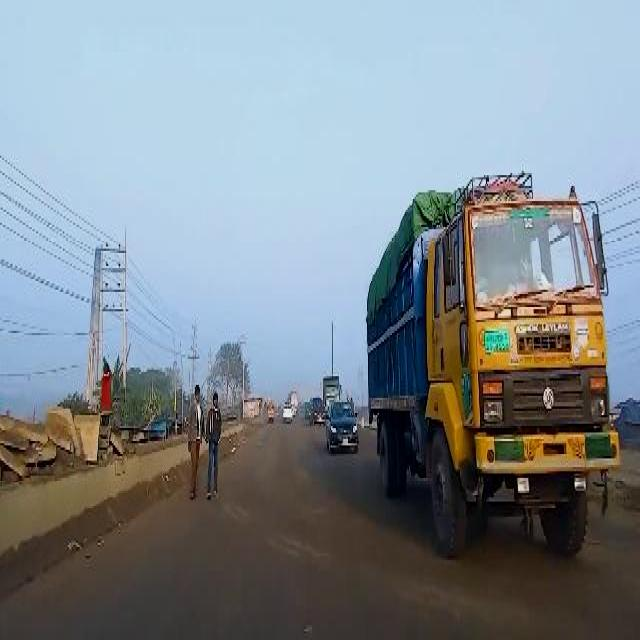TRUCK: (362, 181, 623, 564)
